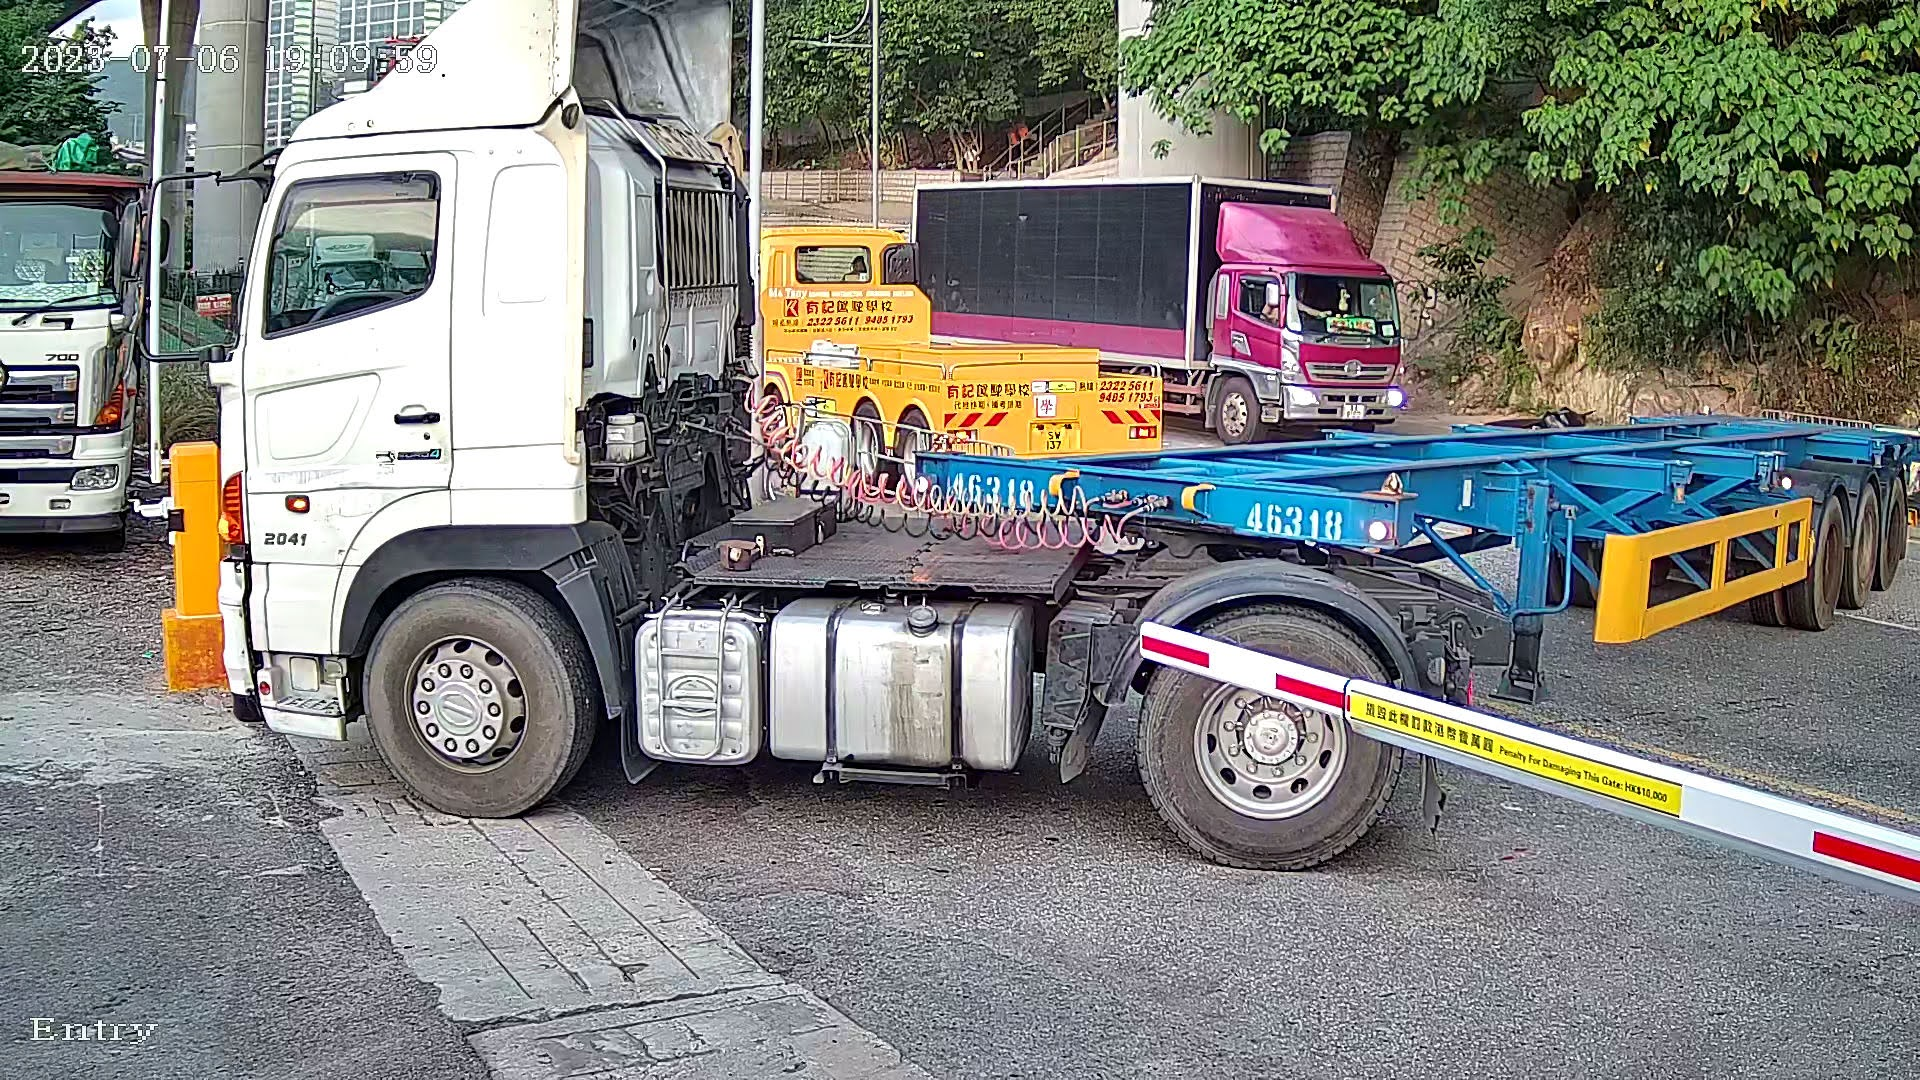tractor: (146, 1, 1867, 869)
